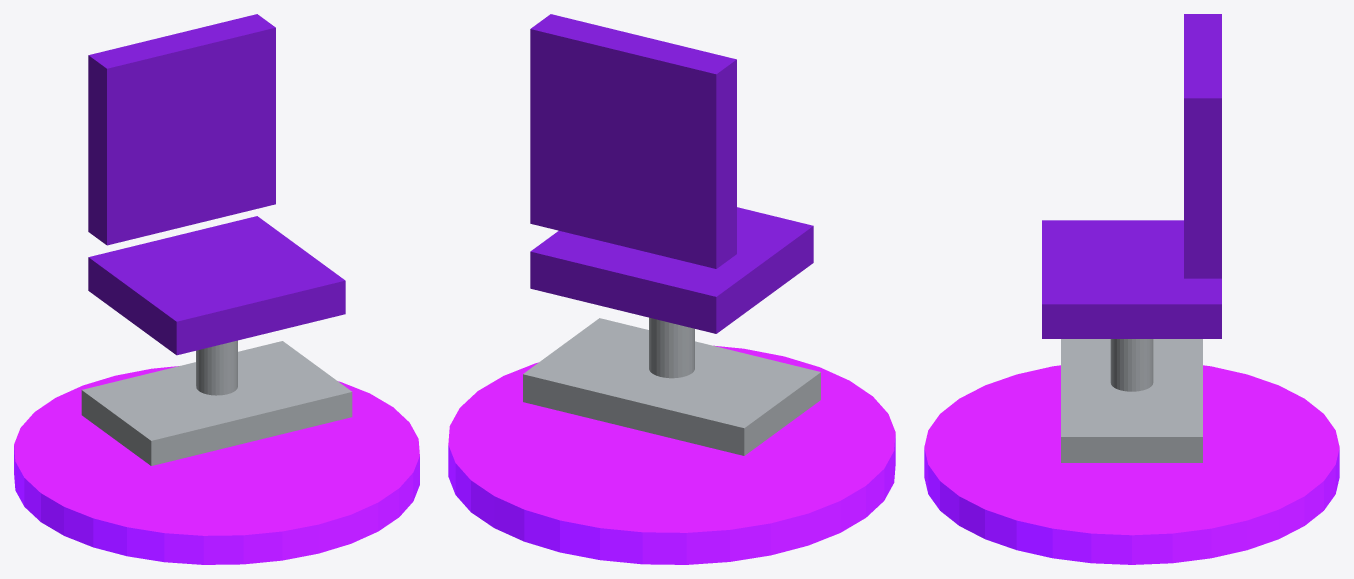
File: modelling_makeup_chair.dae
3 views of the same model, side by side, from view 1: azimuth 30°, elevation 25°; view 2: azimuth 150°, elevation 25°; view 3: azimuth 270°, elevation 25° (orthographic). The views are drawn at different scales.
Visible parts, largest first — view 1: 05_18_Popular_Modelling_Makeup_Chair_ROOT_base, 05_18_Popular_Modelling_Makeup_Chair_part_02, 05_18_Popular_Modelling_Makeup_Chair_part_01, 05_18_Popular_Modelling_Makeup_Chair_part_04, 05_18_Popular_Modelling_Makeup_Chair_part_03; view 2: 05_18_Popular_Modelling_Makeup_Chair_ROOT_base, 05_18_Popular_Modelling_Makeup_Chair_part_02, 05_18_Popular_Modelling_Makeup_Chair_part_04, 05_18_Popular_Modelling_Makeup_Chair_part_01, 05_18_Popular_Modelling_Makeup_Chair_part_03; view 3: 05_18_Popular_Modelling_Makeup_Chair_ROOT_base, 05_18_Popular_Modelling_Makeup_Chair_part_01, 05_18_Popular_Modelling_Makeup_Chair_part_04, 05_18_Popular_Modelling_Makeup_Chair_part_02, 05_18_Popular_Modelling_Makeup_Chair_part_03.
Part boxes in pixels (x1,y1,x2,y2): 05_18_Popular_Modelling_Makeup_Chair_ROOT_base: (14,366,419,564); 05_18_Popular_Modelling_Makeup_Chair_part_02: (88,14,275,245); 05_18_Popular_Modelling_Makeup_Chair_part_01: (88,216,345,355); 05_18_Popular_Modelling_Makeup_Chair_part_04: (81,341,352,465); 05_18_Popular_Modelling_Makeup_Chair_part_03: (196,340,237,395); 05_18_Popular_Modelling_Makeup_Chair_ROOT_base: (448,345,895,564); 05_18_Popular_Modelling_Makeup_Chair_part_02: (530,14,736,268); 05_18_Popular_Modelling_Makeup_Chair_part_04: (523,318,820,455); 05_18_Popular_Modelling_Makeup_Chair_part_01: (530,207,813,333); 05_18_Popular_Modelling_Makeup_Chair_part_03: (649,317,694,378); 05_18_Popular_Modelling_Makeup_Chair_ROOT_base: (924,365,1339,564); 05_18_Popular_Modelling_Makeup_Chair_part_01: (1042,220,1221,338); 05_18_Popular_Modelling_Makeup_Chair_part_04: (1061,339,1202,462); 05_18_Popular_Modelling_Makeup_Chair_part_02: (1184,14,1221,278); 05_18_Popular_Modelling_Makeup_Chair_part_03: (1110,339,1153,391).
Bounding box in the file's own units: 0.76 × 0.85 × 0.76.
